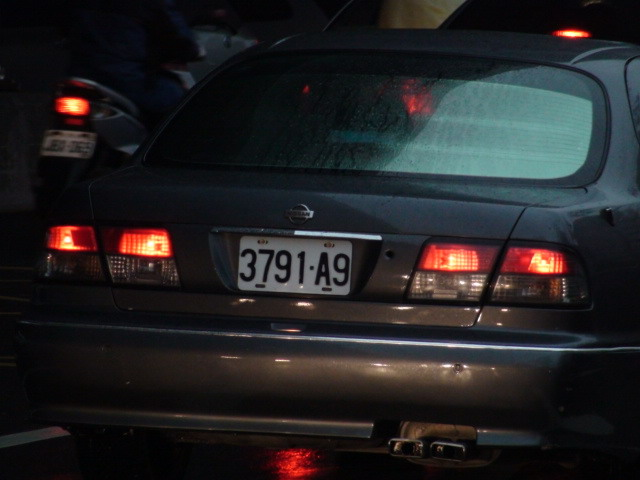plate: (233, 232, 355, 299)
